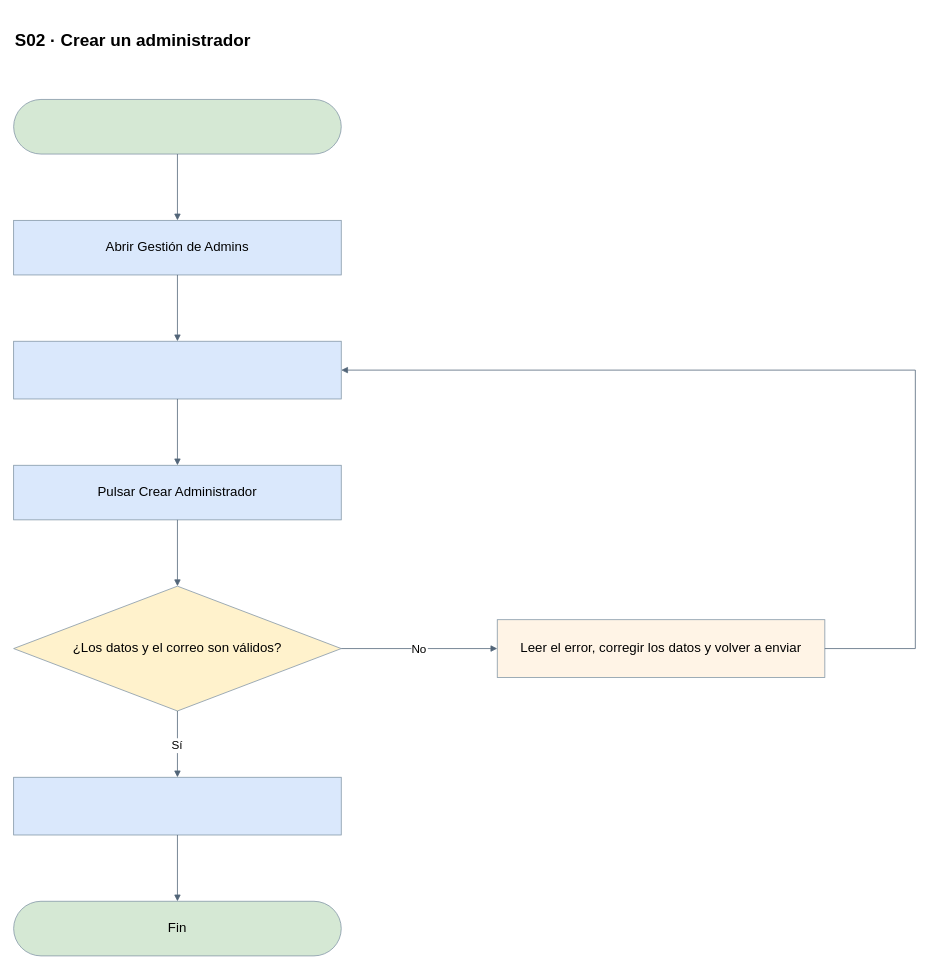
This 948x970 diagram has some shape labels left out. The shapes that lost their labels are listed below. From the top down, each one's centre as x and y in pixels, then its label:
the point at 177,126: Inicio
the point at 177,369: Ingresar correo y contraseña del nuevo administrador
the point at 177,805: Crear la cuenta administrativa y comprobar la lista actualizada
